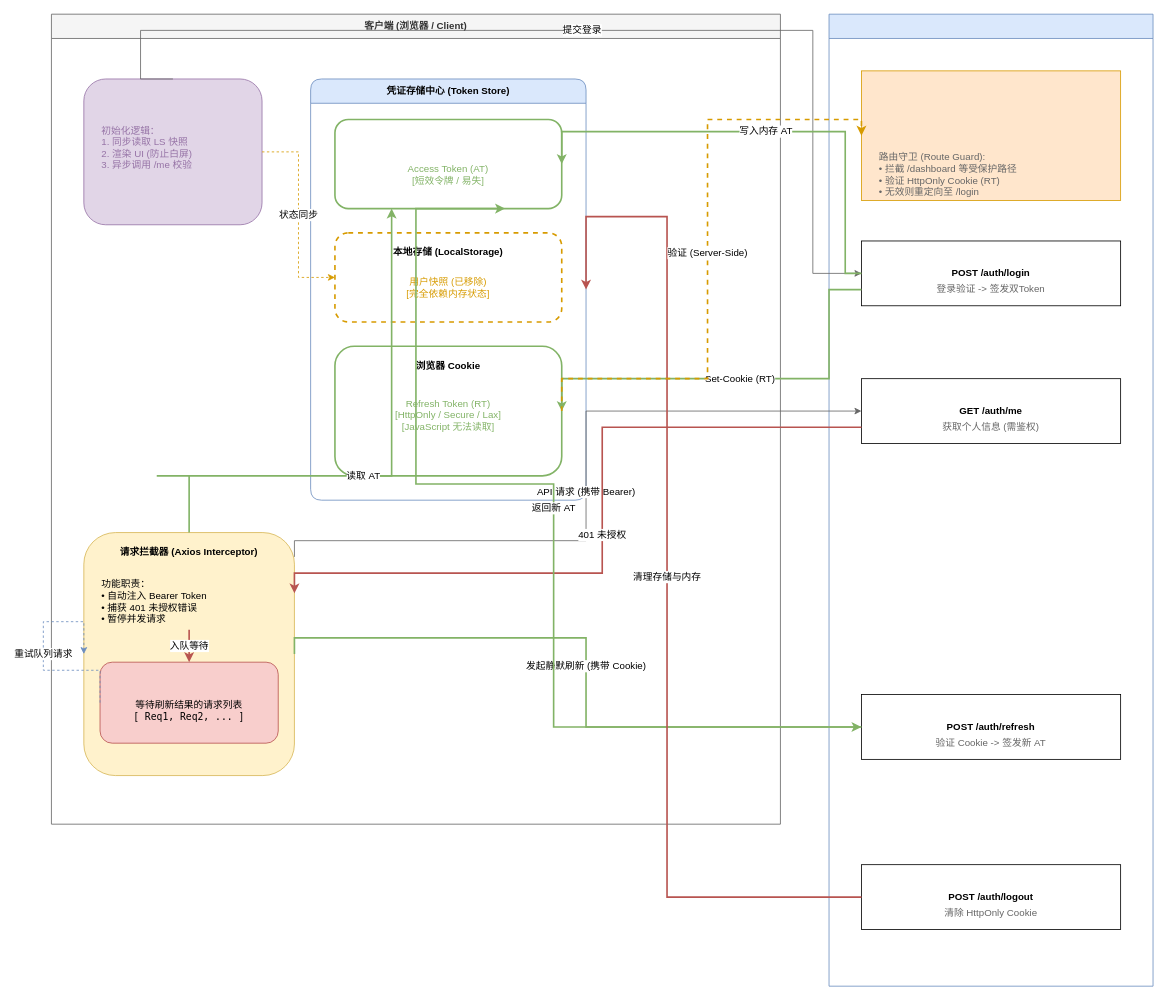
This 1167x1000 diagram has some shape labels left out. The box of each missing label's shape, as (x1, y1, x2, y2) in pixels:
React 上下文 (AuthContext): (83, 78, 262, 225)
中间件 (Middleware): (861, 70, 1121, 200)
内存变量 (Memory): (334, 118, 562, 209)
服务端 (Next.js API Routes & Middleware): (828, 13, 1153, 986)
请求队列 (Request Queue): (99, 661, 278, 743)
